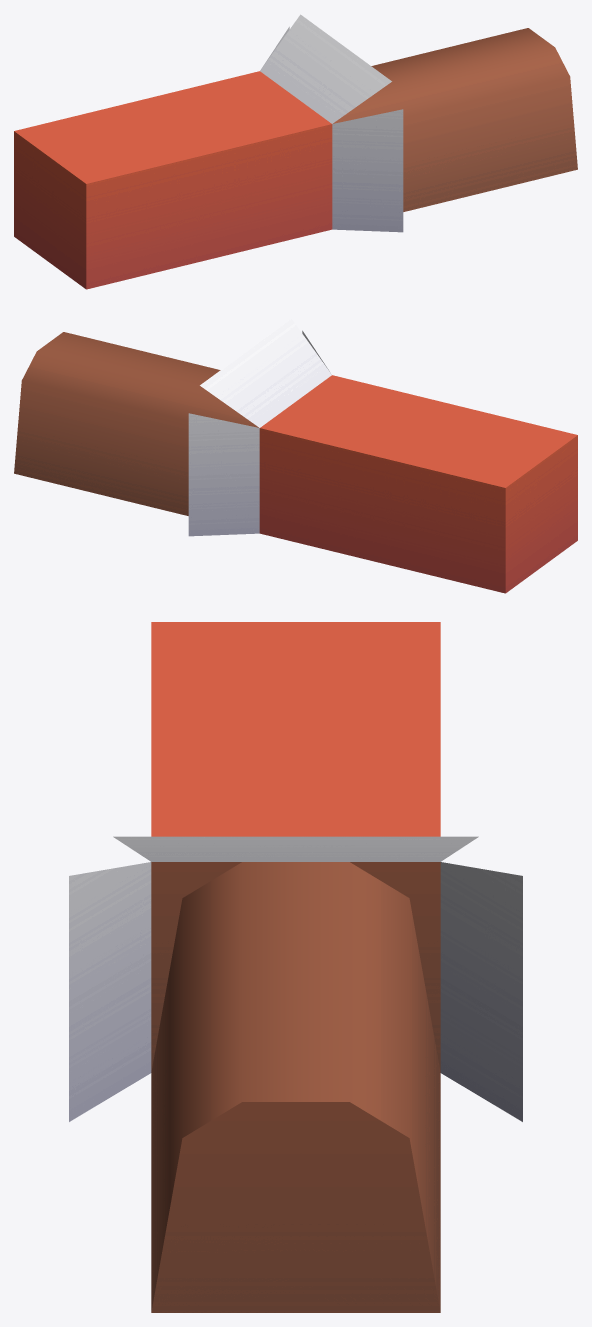
Rendered from candy-bar-wrapper.glb.
3 views of the same model, one above another, from view 1: azimuth 30°, elevation 25°; view 2: azimuth 150°, elevation 25°; view 3: azimuth 270°, elevation 25° (orthographic). The views are drawn at different scales.
Parts seen in each view (by area): view 1: candy-bar-wrapper; view 2: candy-bar-wrapper; view 3: candy-bar-wrapper.
Part boxes in pixels (<box>): candy-bar-wrapper: <box>14,14,577,289</box>; candy-bar-wrapper: <box>14,318,577,593</box>; candy-bar-wrapper: <box>69,622,522,1312</box>.
Size of the model in its own units: 0.2924 by 0.0812 by 0.1169.
1 material, 1 textured.
